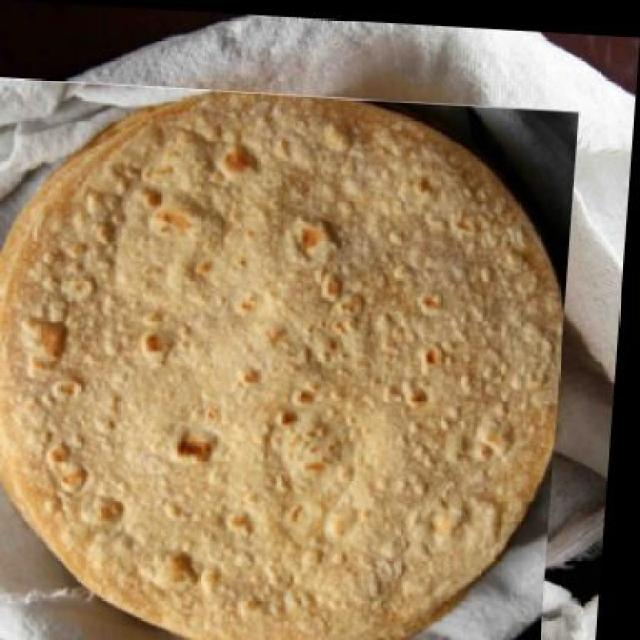chapati: (0, 77, 583, 638)
